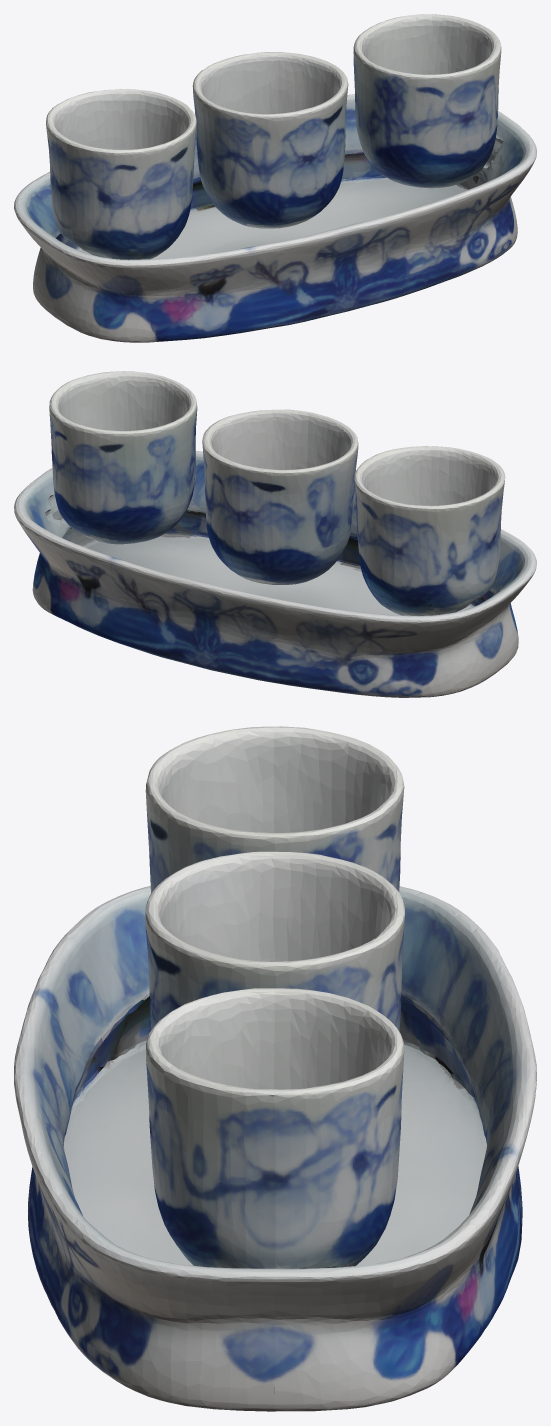
3 views of the same model, one above another, from view 1: azimuth 30°, elevation 25°; view 2: azimuth 150°, elevation 25°; view 3: azimuth 270°, elevation 25° (orthographic). The views are drawn at different scales.
Visible parts, largest first — view 1: world; view 2: world; view 3: world.
Part boxes in pixels (left/top/right/bottom): world: left=14, top=14, right=536, bottom=342; world: left=14, top=371, right=536, bottom=697; world: left=14, top=726, right=536, bottom=1411.
Size of the model in its own units: 0.9993 by 0.3685 by 0.5516.
1 material, 1 textured.
